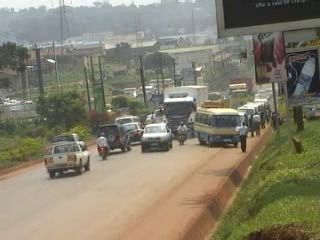Car: (94, 123, 132, 153), (122, 120, 146, 144), (144, 114, 157, 128)
Motorcycle: (97, 133, 110, 161), (176, 126, 188, 146)
